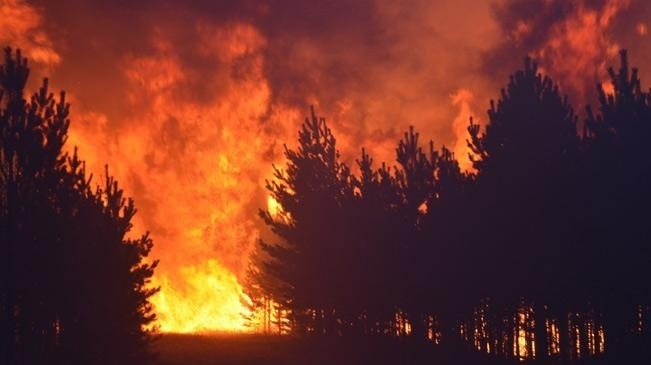fire: (26, 21, 320, 346)
